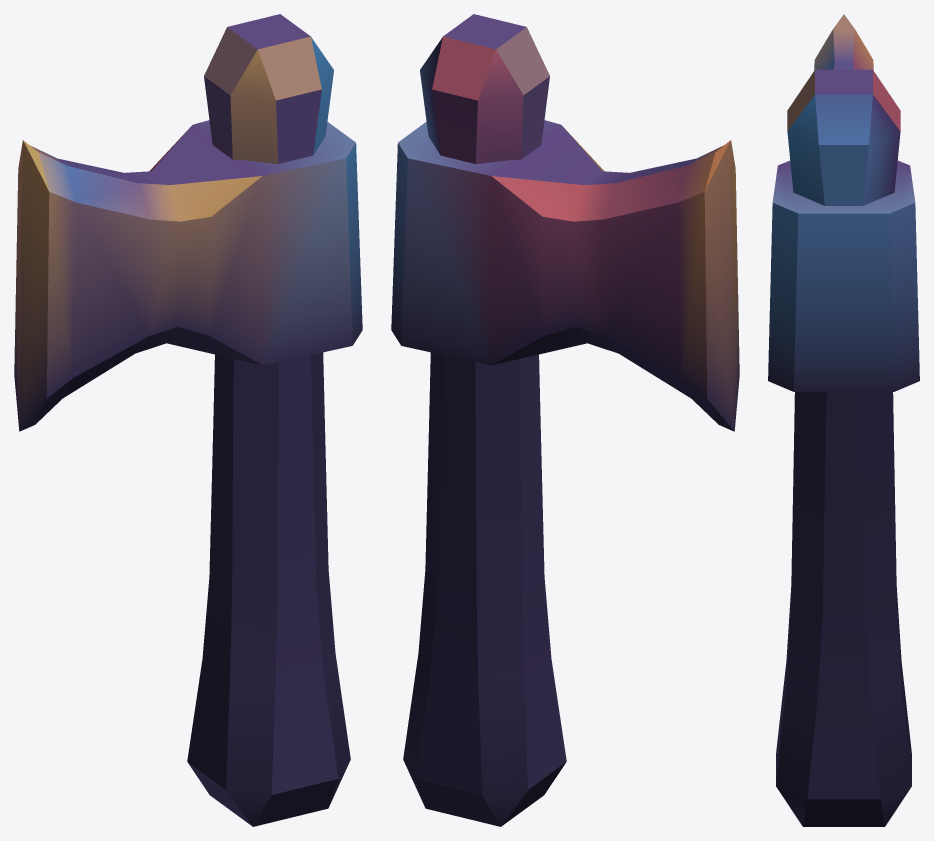
Rendered from Fusion_Axe.glb.
3 views of the same model, side by side, from view 1: azimuth 30°, elevation 25°; view 2: azimuth 150°, elevation 25°; view 3: azimuth 270°, elevation 25° (orthographic). The views are drawn at different scales.
Visible parts, largest first — view 1: Fusion_Axe; view 2: Fusion_Axe; view 3: Fusion_Axe.
Boxes of the visible parts, x1,y1,x2,y2 form: Fusion_Axe: (14, 14, 362, 826); Fusion_Axe: (391, 14, 739, 826); Fusion_Axe: (768, 14, 919, 826).
Bounding box in the file's own units: 0.7377 × 1.71 × 0.3243.
